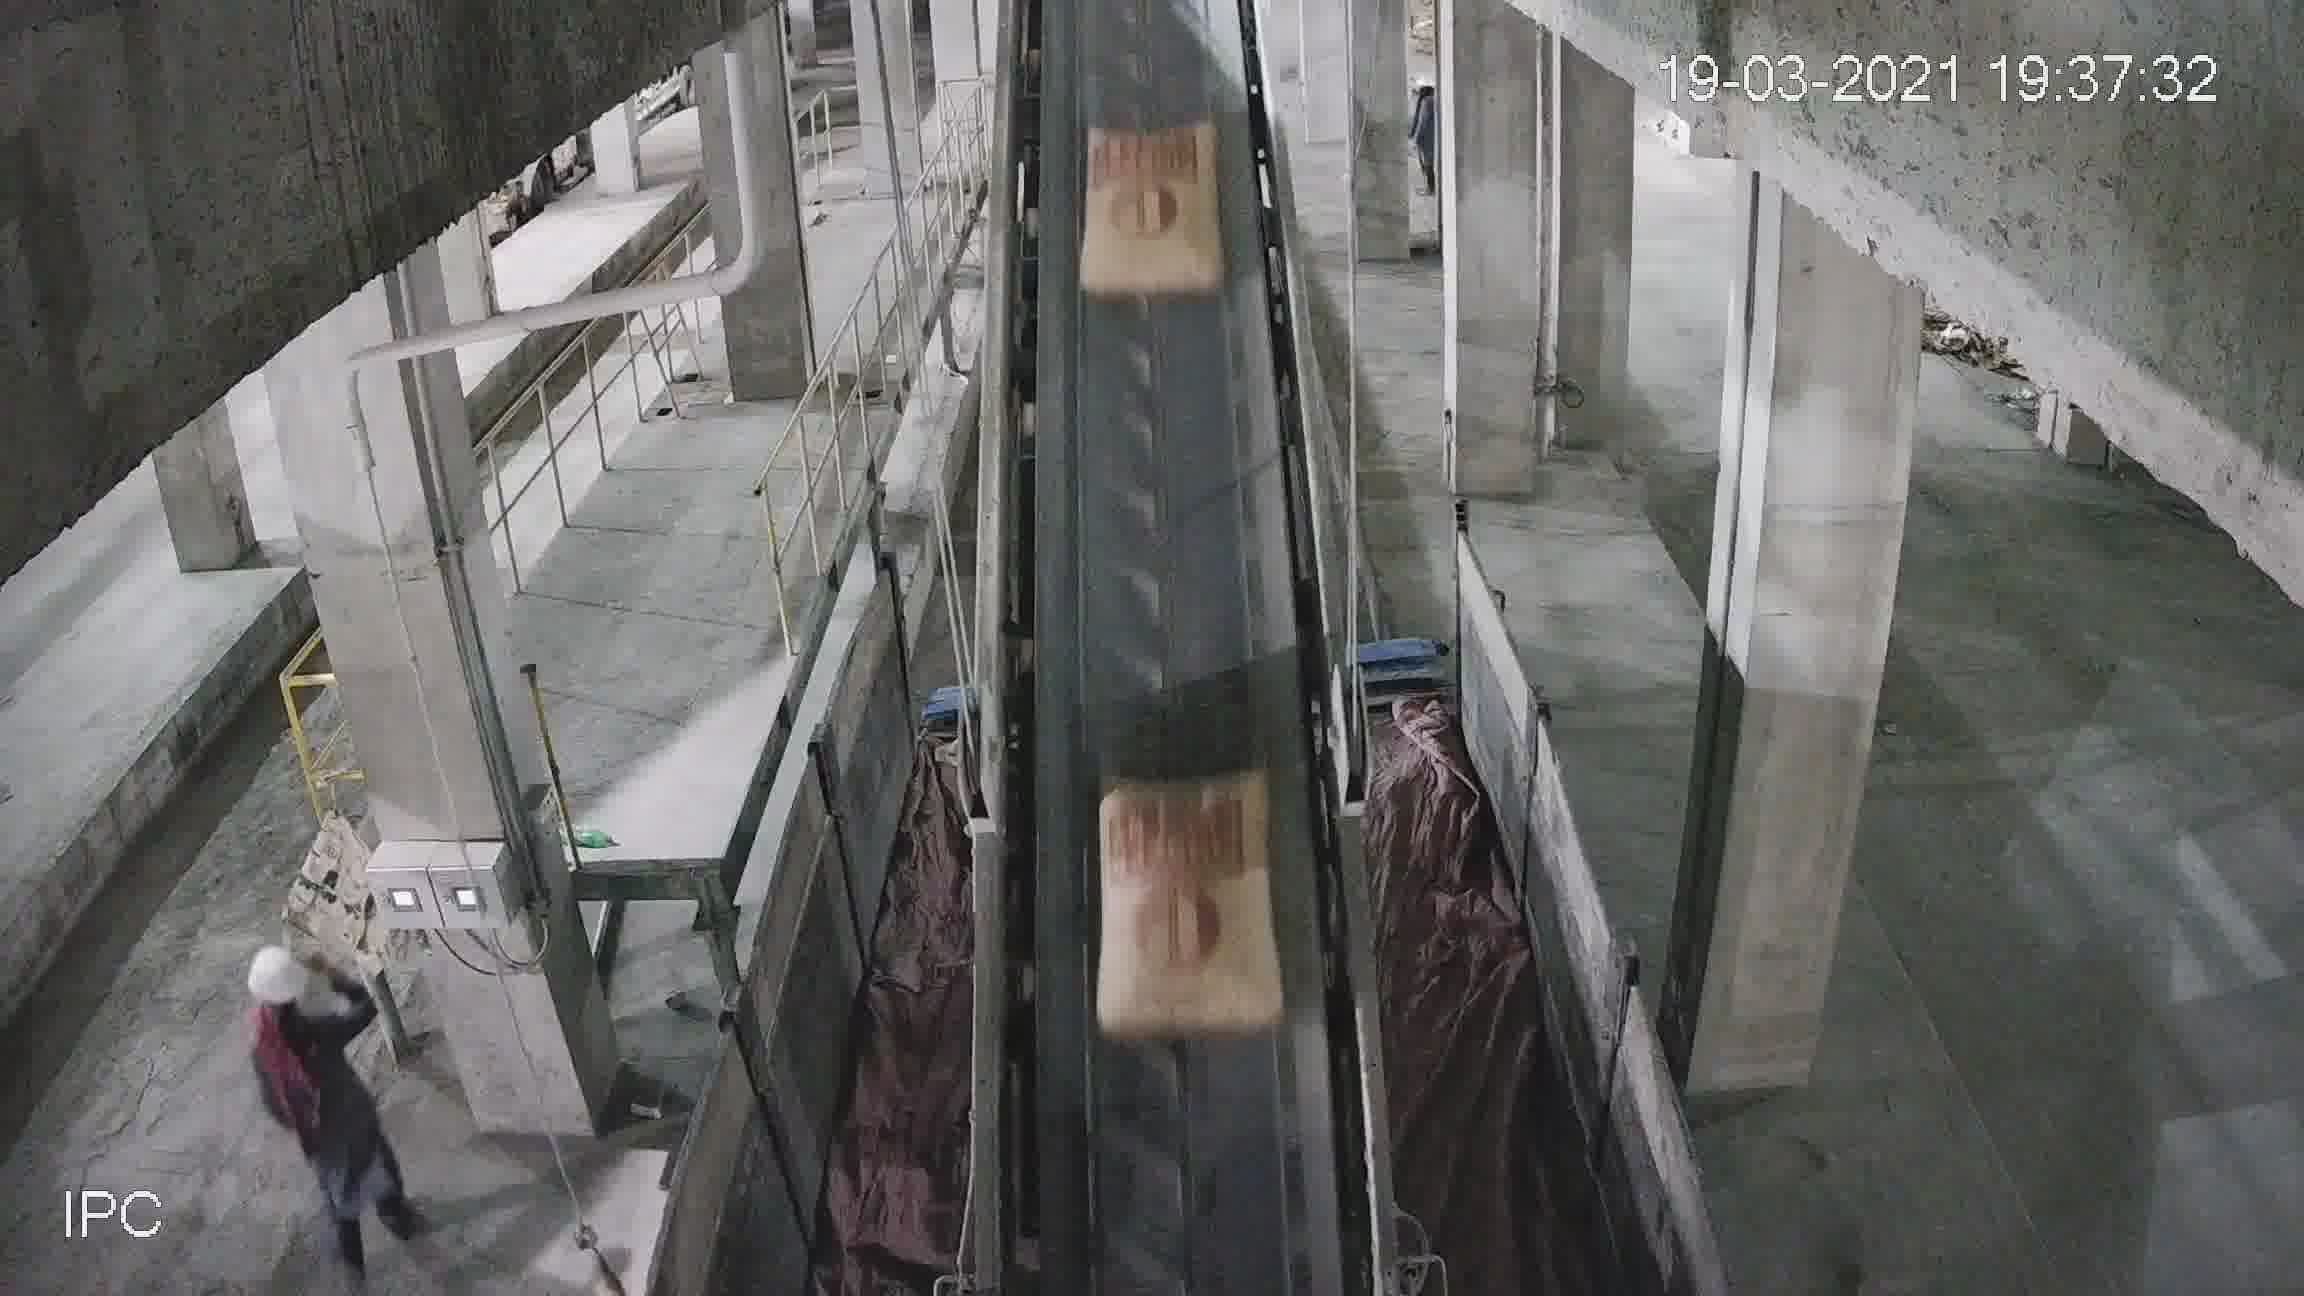bag: (1093, 767, 1282, 1051), (1081, 120, 1222, 290)
belt: (975, 5, 1393, 1199)
